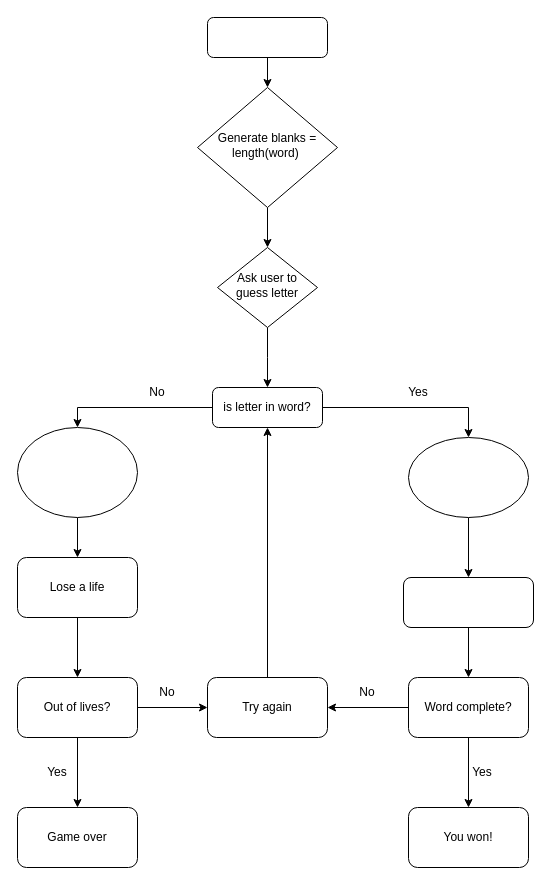
The diagram is 551 pixels wide and 885 high, and some of its shapes have lost their labels. The centre of each missing label's shape, as x and y in pixels:
"Generate random word" belongs at point (267, 37).
"Good guess, next letter" belongs at point (468, 477).
"Letter not in word try again" belongs at point (77, 472).
"Replace blank with letter" belongs at point (468, 602).
